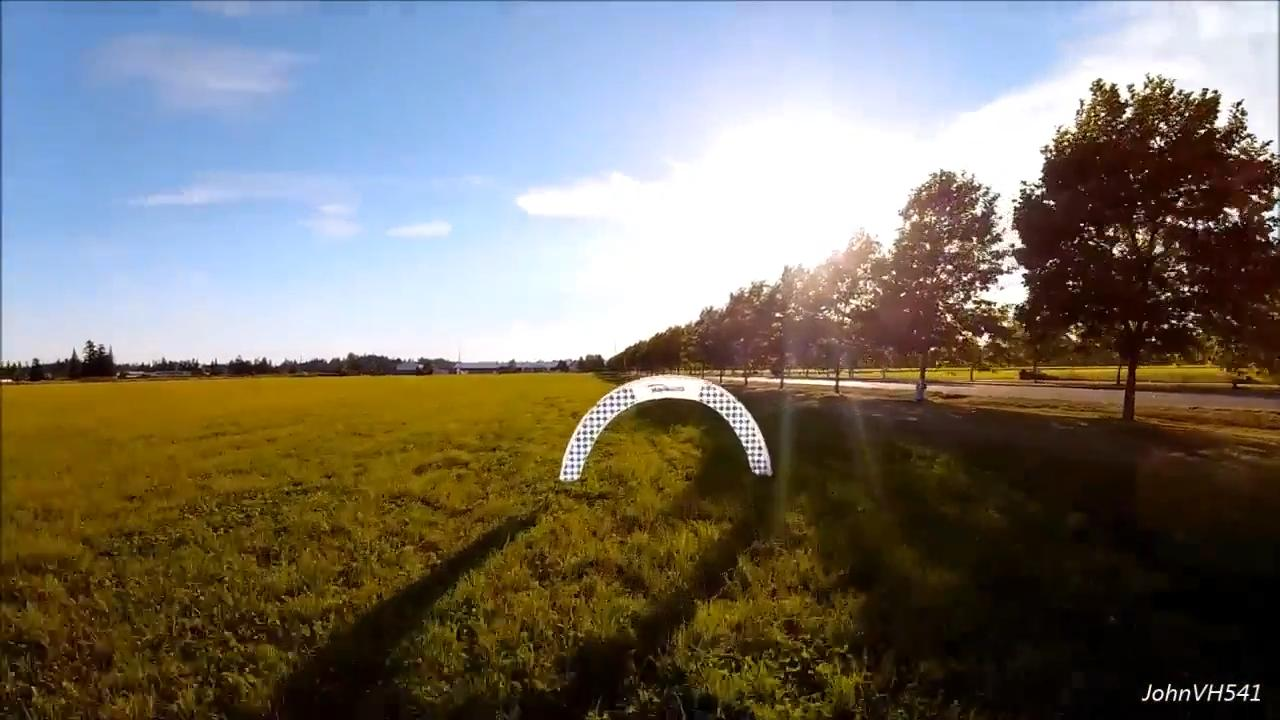gate: (560, 374, 771, 491)
